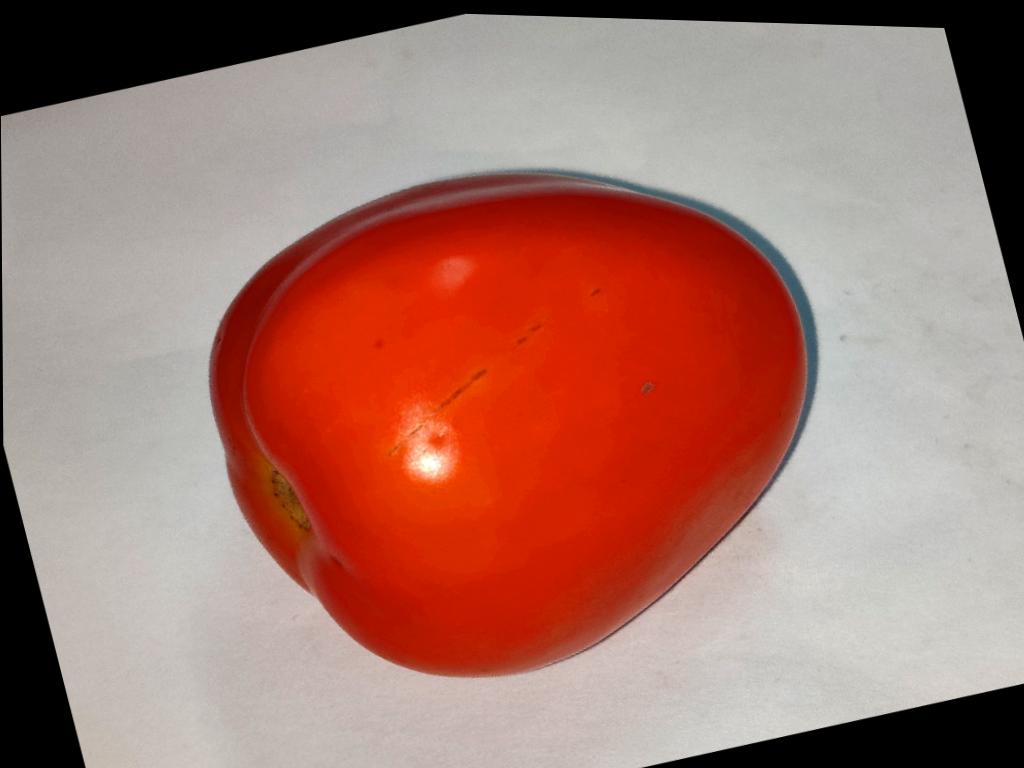tomato: (211, 174, 805, 675)
